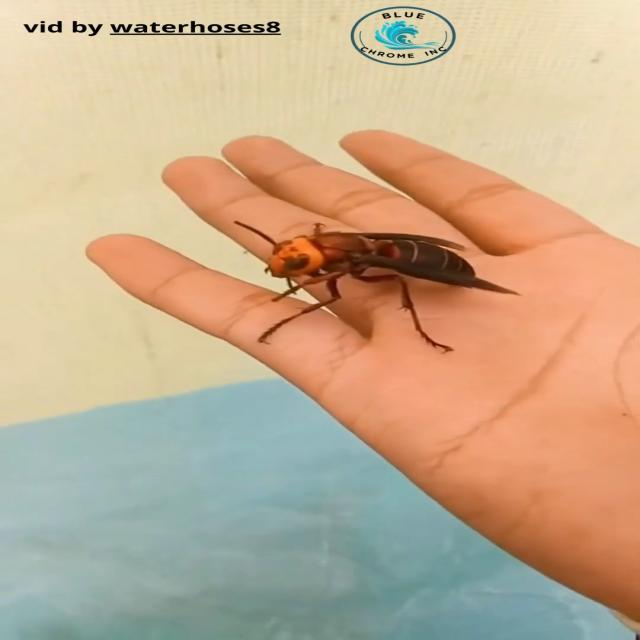Hornets: (231, 218, 525, 354)
